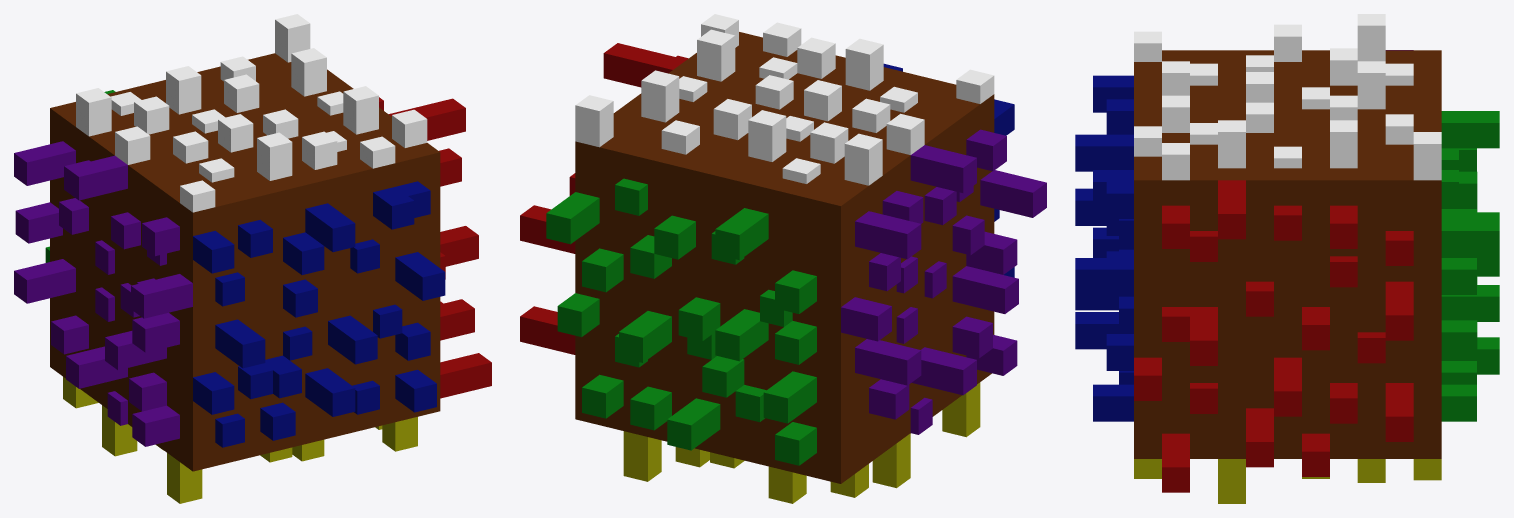
Rendered from планета 6.dae.
The picture shows the model from 3 angles, left to right: view 1: azimuth 30°, elevation 25°; view 2: azimuth 150°, elevation 25°; view 3: azimuth 270°, elevation 25°; orthographic projection. The views are drawn at different scales.
Visible parts, largest first — view 1: Планета 6; view 2: Планета 6; view 3: Планета 6.
Boxes of the visible parts, x1,y1,x2,y2 form: Планета 6: [14, 14, 491, 503]; Планета 6: [520, 14, 1046, 503]; Планета 6: [1075, 14, 1499, 503].
Bounding box in the file's own units: 292 × 276 × 258.
